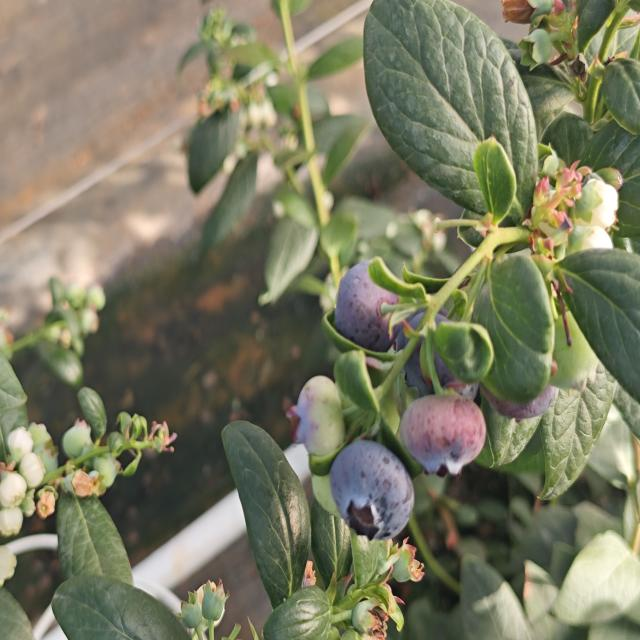ripe: (328, 442, 420, 543), (392, 312, 482, 402), (329, 258, 407, 349), (485, 364, 558, 424)
